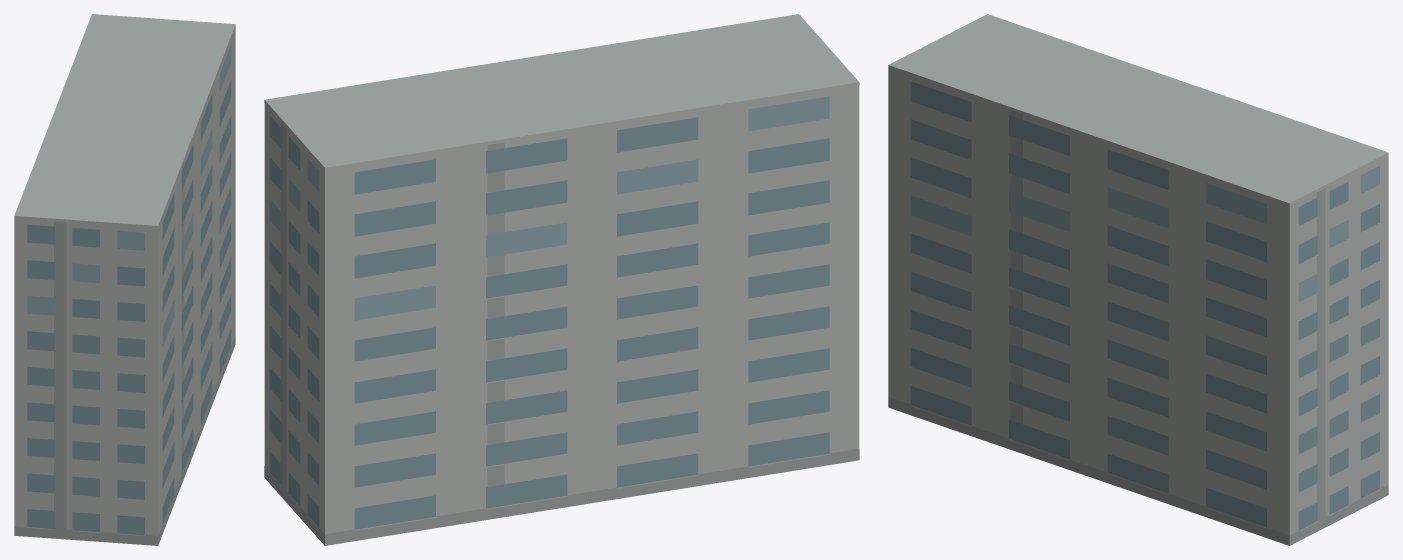
The model's file is survey-upis-32819198.glb.
3 views of the same model, side by side, from view 1: azimuth 30°, elevation 25°; view 2: azimuth 150°, elevation 25°; view 3: azimuth 270°, elevation 25° (orthographic). The views are drawn at different scales.
Parts seen in each view (by area): view 1: survey-upis-32819198.tmp; view 2: survey-upis-32819198.tmp; view 3: survey-upis-32819198.tmp.
Boxes of the visible parts, x1,y1,x2,y2 form: survey-upis-32819198.tmp: (14,14,235,545); survey-upis-32819198.tmp: (264,14,859,545); survey-upis-32819198.tmp: (888,14,1388,545).
Size of the model in its own units: 32.55 by 27.45 by 36.35.
